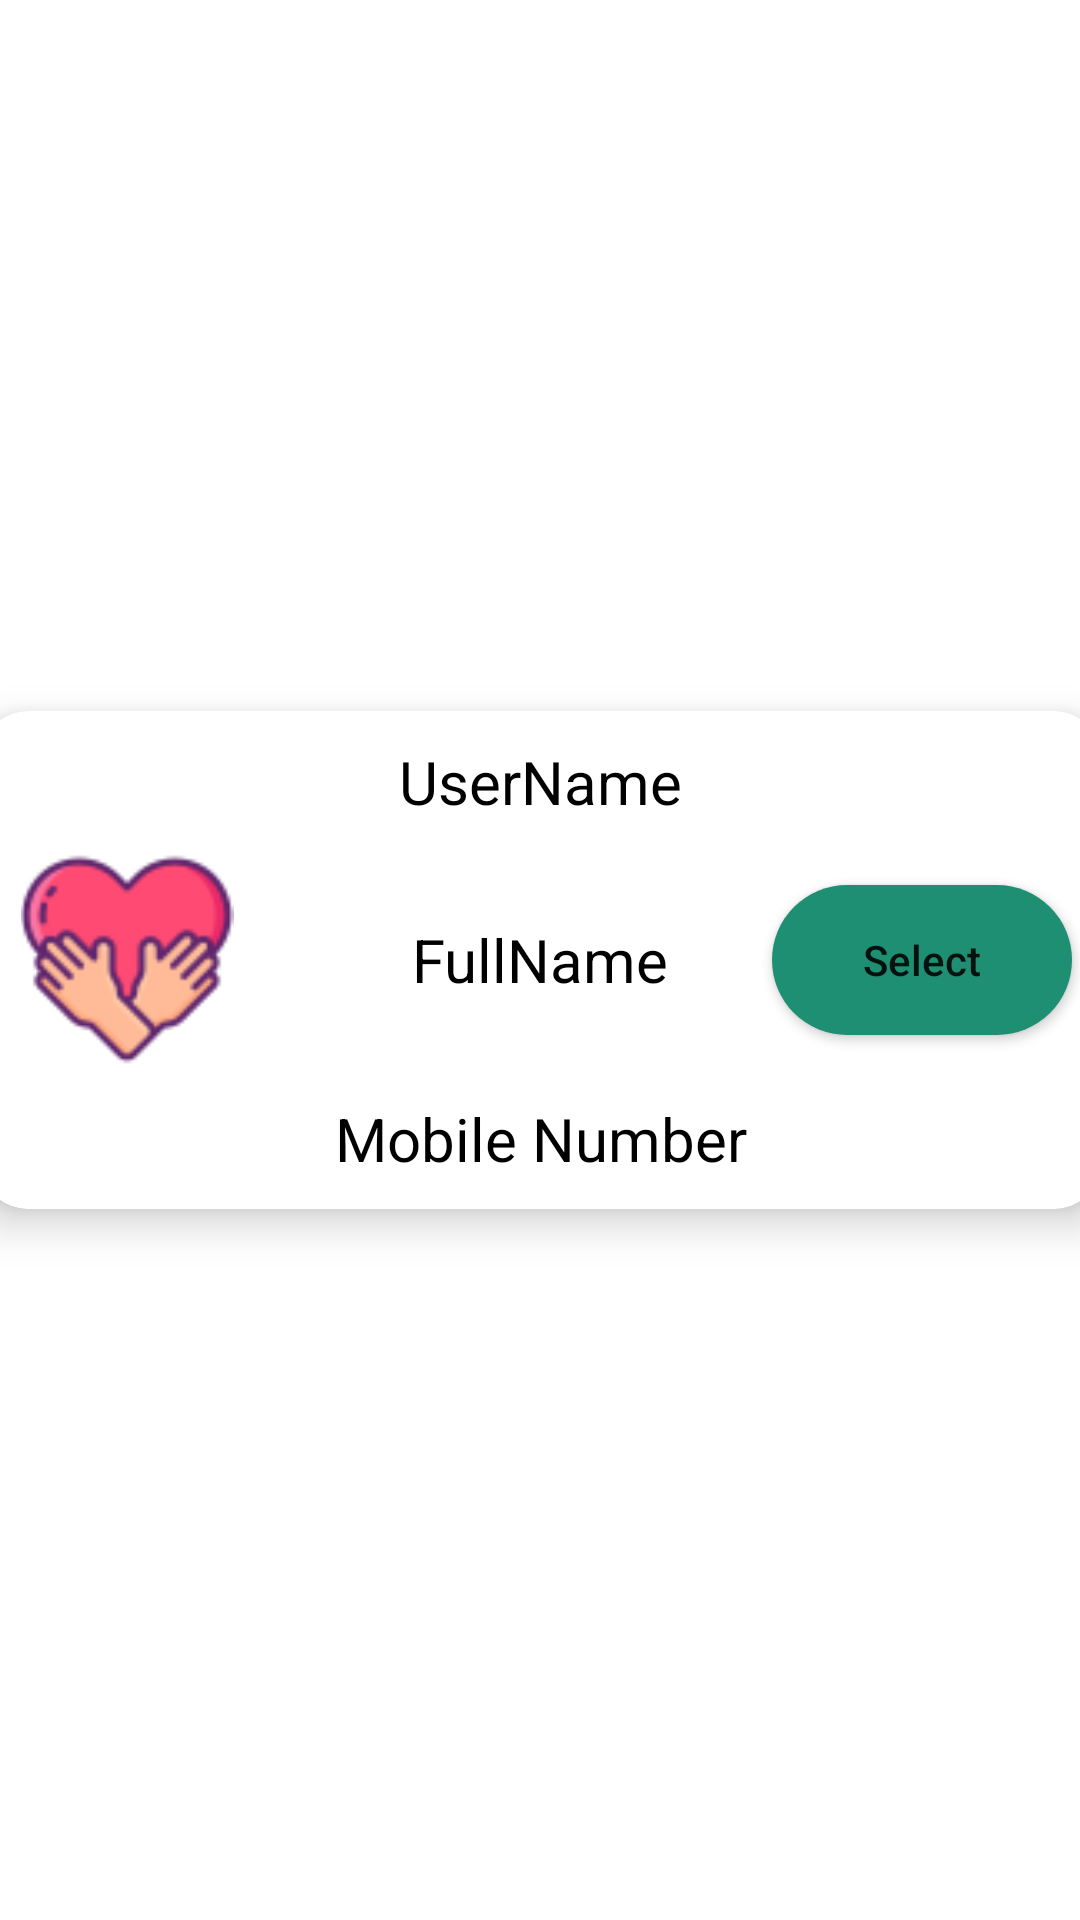

Screen size 1080 × 1920. Icon name, then its box in pixels as (x1, y1, x2, y2):
cargiver: (21, 856, 234, 1063)
